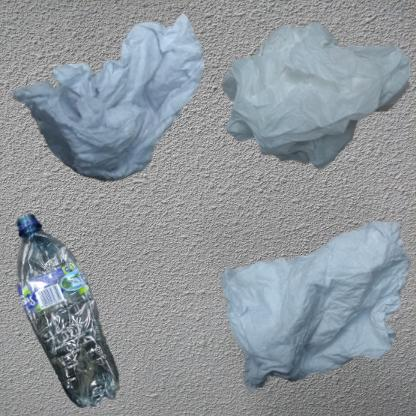bolsa: (213, 10, 416, 185)
botella: (10, 213, 127, 412)
papel: (213, 213, 416, 406), (10, 10, 206, 184)
